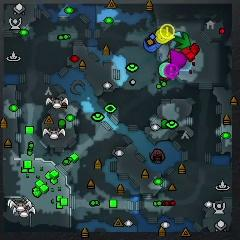Other: (160, 23, 175, 40), (164, 64, 178, 79)
p1: (142, 35, 161, 52)
p2: (159, 62, 173, 76)
p3: (170, 48, 185, 69)
p4: (155, 29, 175, 43)
x3: (167, 31, 183, 48)
x4: (174, 32, 190, 49)
